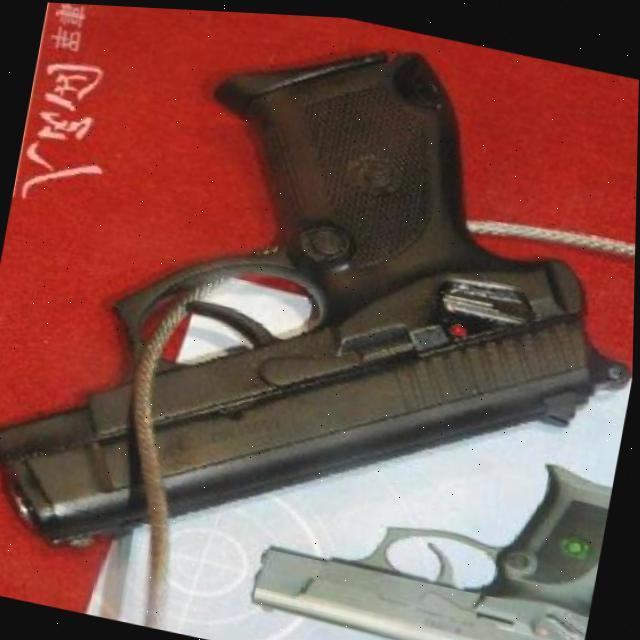gun: (0, 0, 640, 640), (246, 400, 617, 640)
